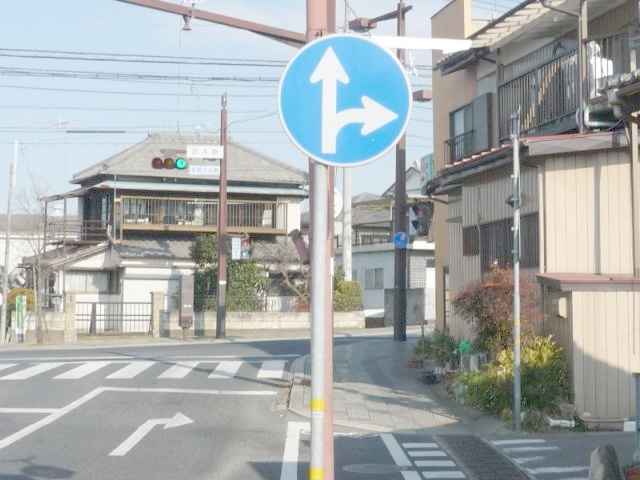Direction_sign: (278, 28, 414, 170)
